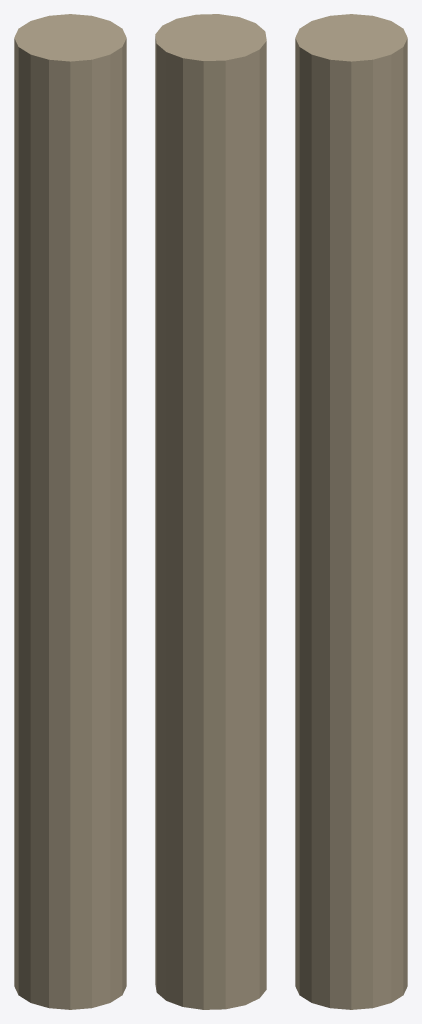
File: Pole.fbx
3 renders of one model, left to right at view 1: azimuth 90°, elevation 25°; view 2: azimuth 150°, elevation 25°; view 3: azimuth 270°, elevation 25°, orthographic.
Visible parts, largest first — view 1: Pole; view 2: Pole; view 3: Pole.
Part boxes in pixels (x1=…): Pole: x1=14, y1=14, x2=126, y2=1009; Pole: x1=155, y1=14, x2=266, y2=1009; Pole: x1=295, y1=14, x2=407, y2=1009.
Size of the model in its own units: 20.73 by 20.73 by 193.
